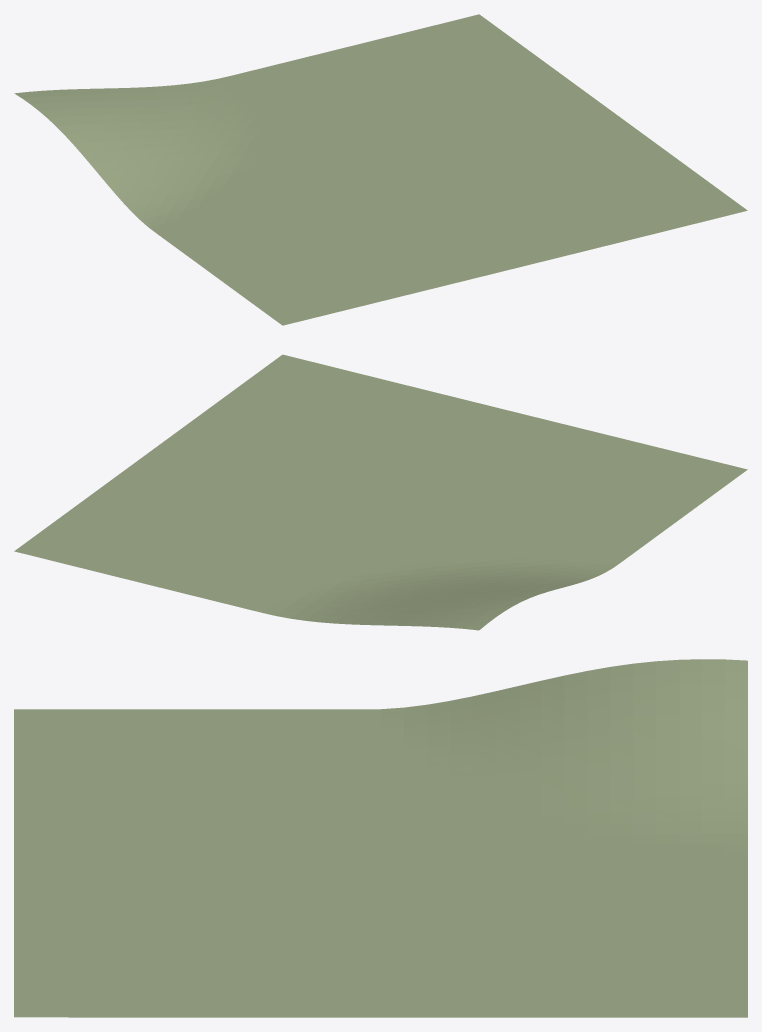
File: desert-7-22.glb
3 renders of one model, top to bottom at view 1: azimuth 30°, elevation 25°; view 2: azimuth 150°, elevation 25°; view 3: azimuth 270°, elevation 25°, orthographic. The views are drawn at different scales.
Parts seen in each view (by area): view 1: desert-7-22; view 2: desert-7-22; view 3: desert-7-22.
Boxes of the visible parts, left/top/right/bottom form: desert-7-22: left=14, top=14, right=747, bottom=325; desert-7-22: left=14, top=354, right=747, bottom=630; desert-7-22: left=14, top=659, right=747, bottom=1017.
Bounding box in the file's own units: 512 × 38.68 × 512.
